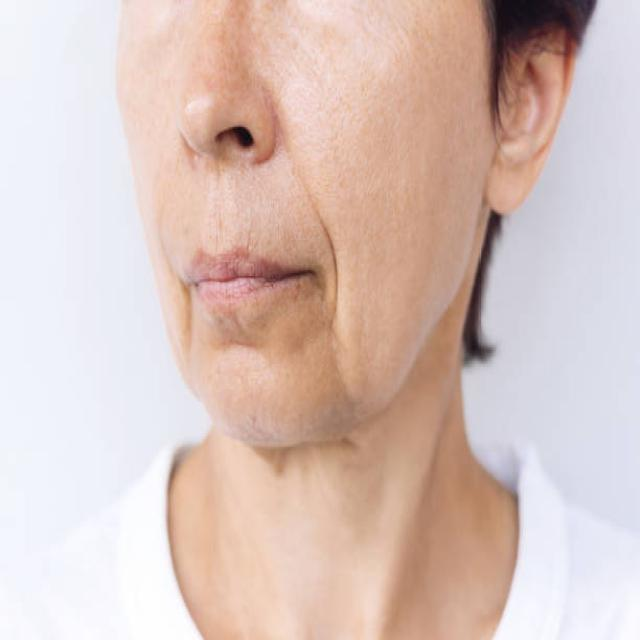Dry-Skin: (313, 33, 409, 225), (428, 82, 528, 237), (209, 307, 306, 397), (180, 19, 256, 131), (237, 277, 310, 350), (356, 335, 434, 378), (121, 167, 163, 199)
